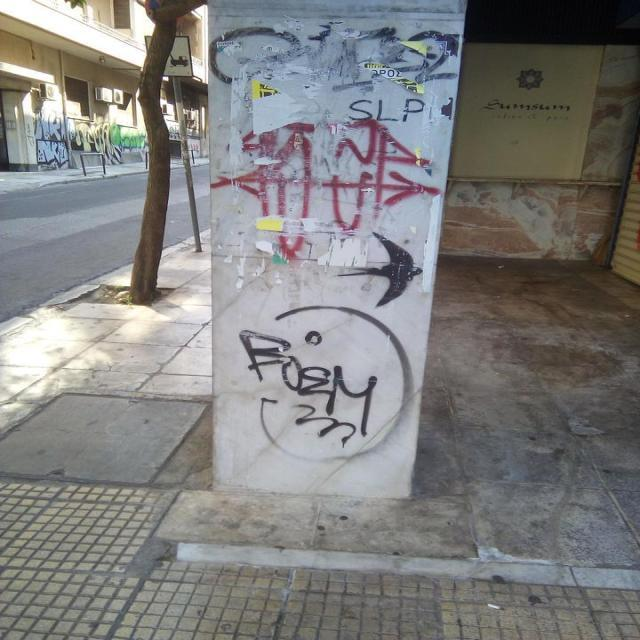nonspitting: (210, 120, 444, 258), (238, 302, 412, 466), (213, 21, 460, 98)
